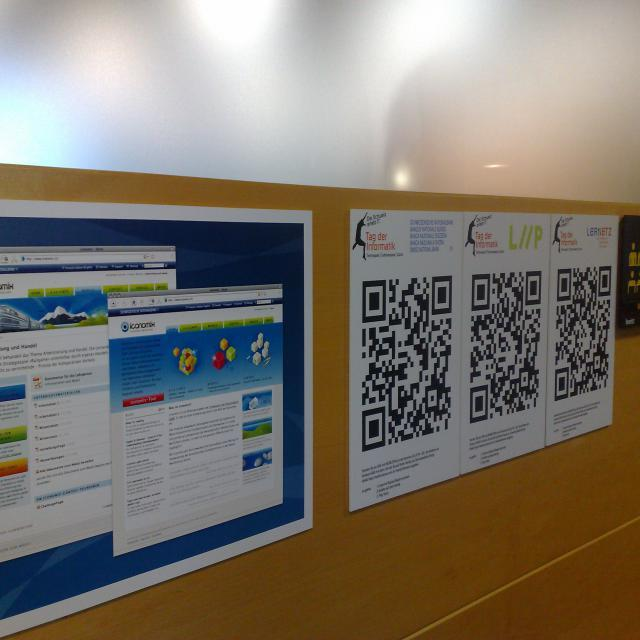qrcode: (363, 276, 453, 453), (471, 272, 543, 425), (556, 267, 613, 402)
